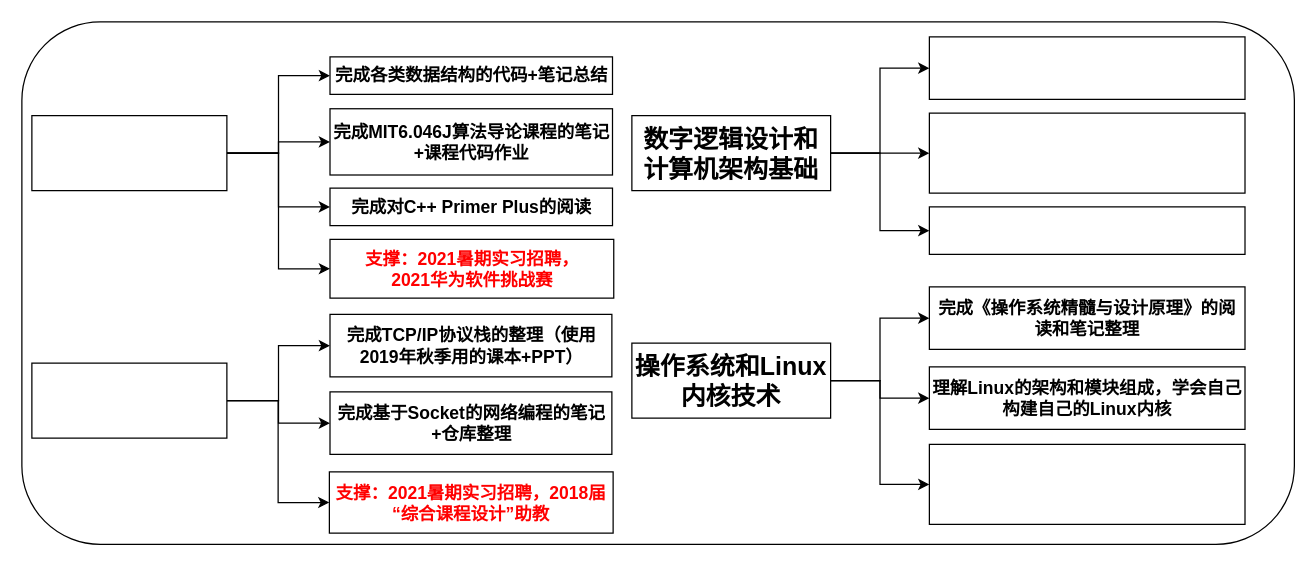
Some shapes in this 1316 by 566 pixel diagram are drawn without their labels. The centre of each missing label's shape, as x and y in pixels:
"完成《Verilog高级数字系统设计技术与实例分析》的阅读，掌握熟练的数字设计、仿真技术" belongs at point 1086,152.
"寻找某种手段（基于某个平台）尝试实现自己的操作系统，因为这一块没有支撑项目/活动，因此需要自寻驱动" belongs at point 1086,483.
"支撑：毕业设计" belongs at point 1086,230.
"数据结构与算法" belongs at point 129,152.
"结合2018年秋季课件，完成《数字设计和计算机体系结构》的阅读和笔记整理" belongs at point 1086,67.
"网络技术基础" belongs at point 129,400.
